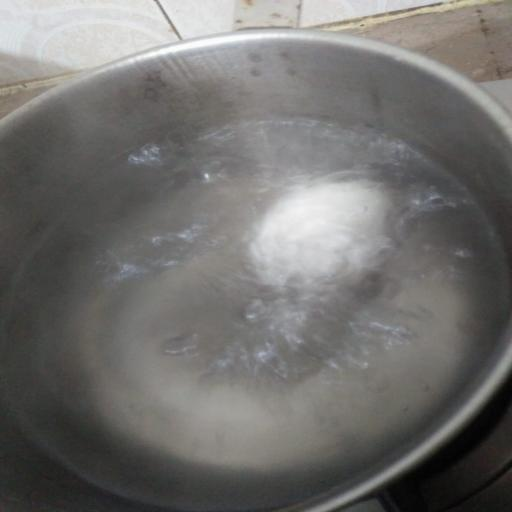telur: (251, 180, 390, 287), (287, 239, 288, 240)
